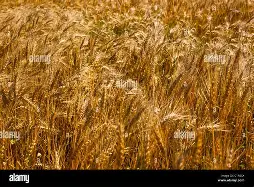crops: (0, 0, 250, 165)
